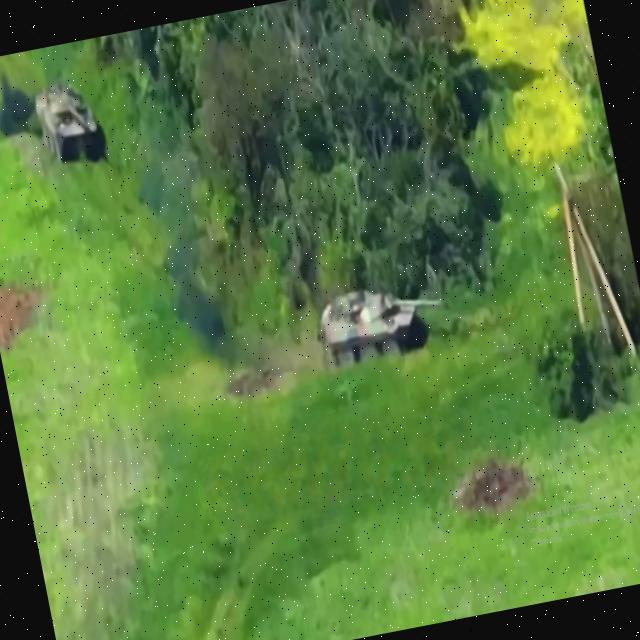MBT: (313, 270, 454, 379), (31, 76, 107, 171)
